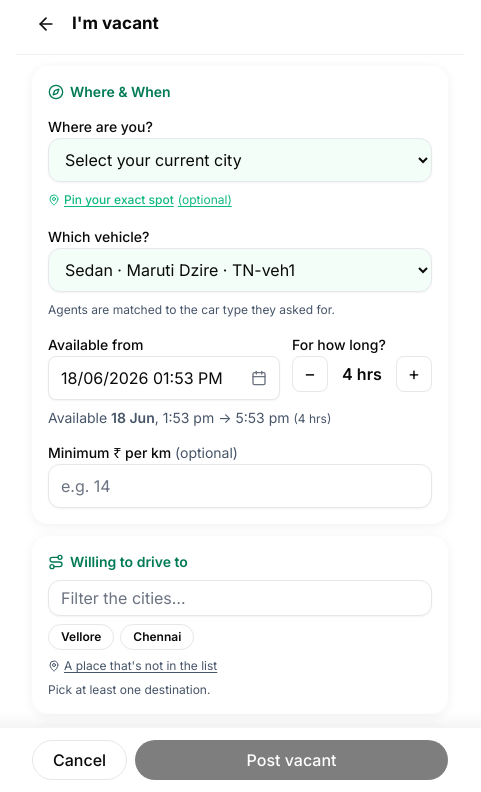
Scenario: PostVacancyPage › keeps "Post vacant" disabled until a city and at least one destination are set (the start time defaults to now)
Check: the button "Post vacant" is disabled, box [135, 740, 448, 780]
Select "Vellore" in the dropdown labelled "Where are you?" at coordinates (240, 160), box [48, 138, 432, 182]
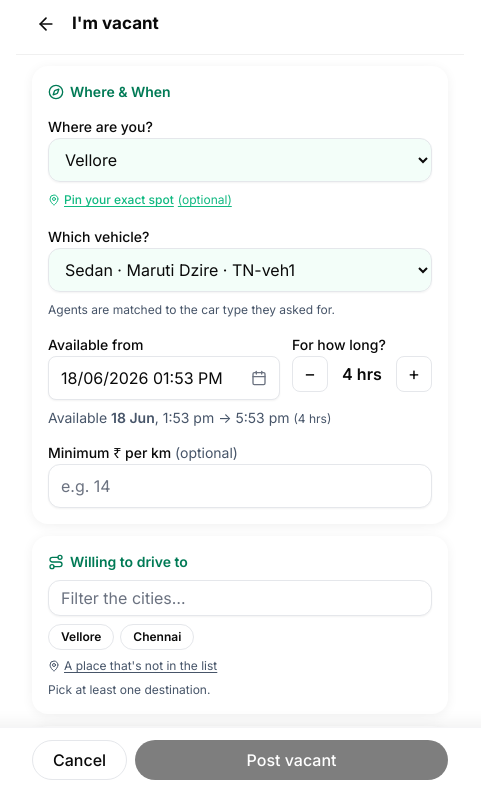
Check: the button "Post vacant" is disabled, box [135, 740, 448, 780]
Click the button "Chennai" at coordinates (157, 637), box [120, 624, 194, 650]
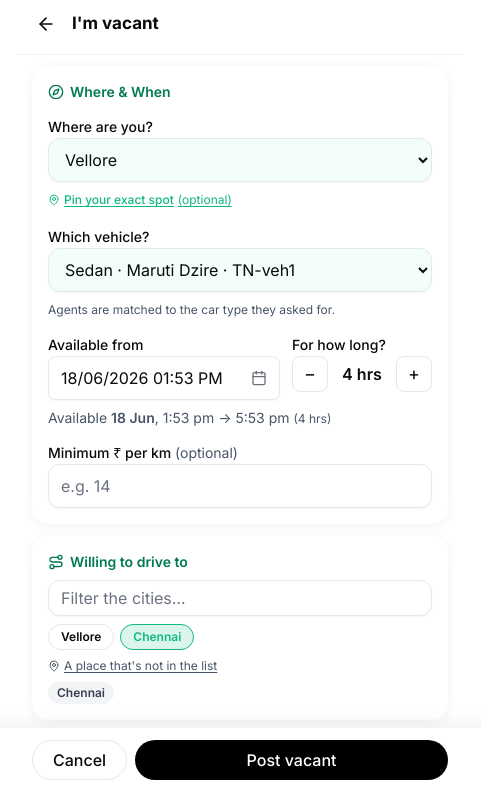
Check: the button "Post vacant" is enabled, box [135, 740, 448, 780]
